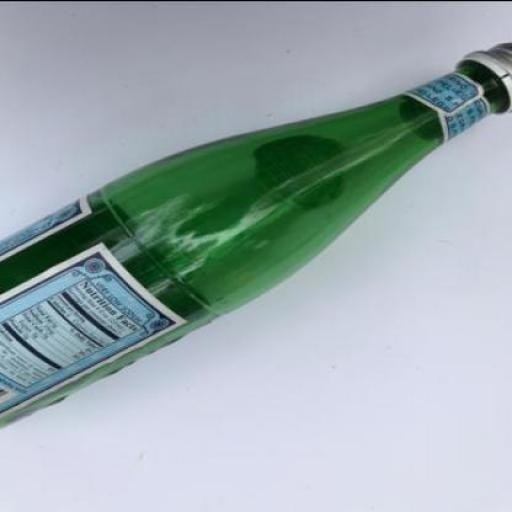glass: (0, 62, 505, 427)
metal: (456, 44, 510, 116)
